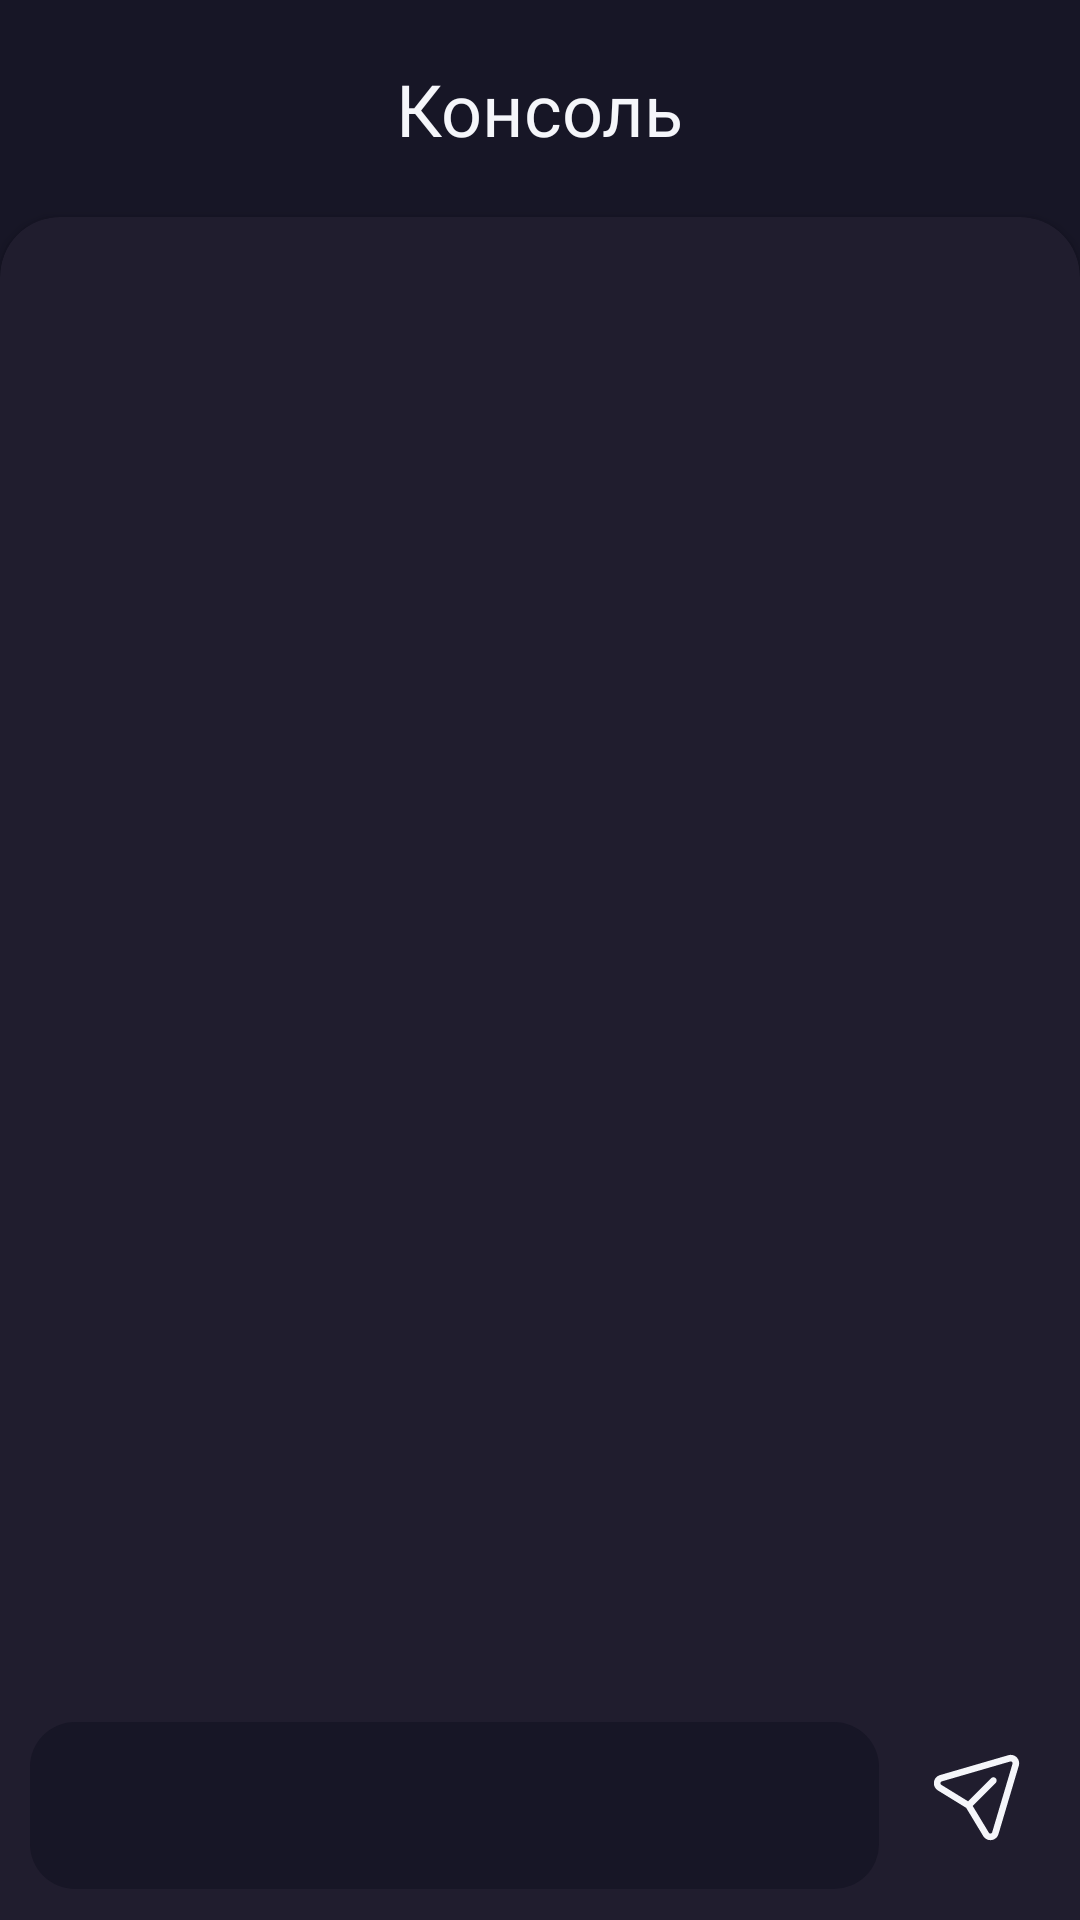

Icons on this 1080*1920 Android screen, each with the point to tap as (x=x, y=y):
send: (x=977, y=1797)
